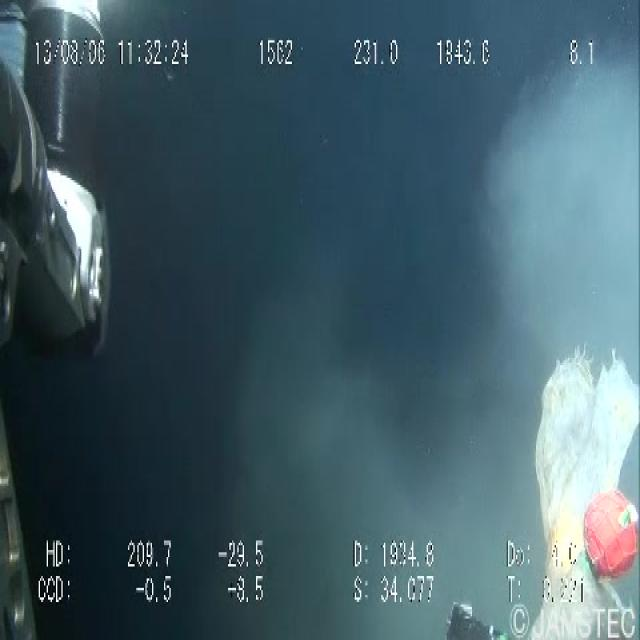plastic: (509, 327, 639, 638)
